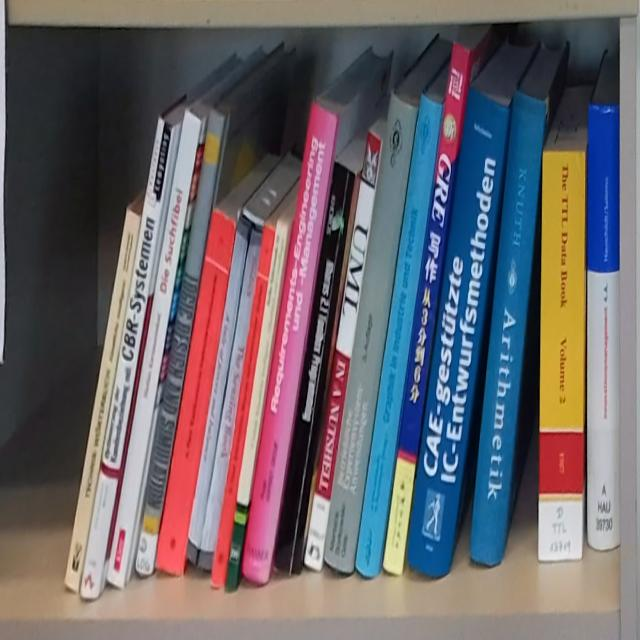Book Spine: (407, 83, 510, 580), (242, 103, 340, 584), (384, 39, 471, 576), (325, 91, 420, 573), (107, 109, 202, 591), (80, 117, 174, 599), (355, 91, 442, 578), (136, 107, 226, 577), (470, 87, 548, 569), (273, 158, 356, 576), (305, 129, 383, 571), (155, 208, 237, 574), (65, 210, 140, 591), (210, 224, 276, 586), (226, 219, 289, 591), (196, 230, 263, 572), (185, 221, 248, 569), (538, 150, 585, 561), (588, 105, 621, 554)
